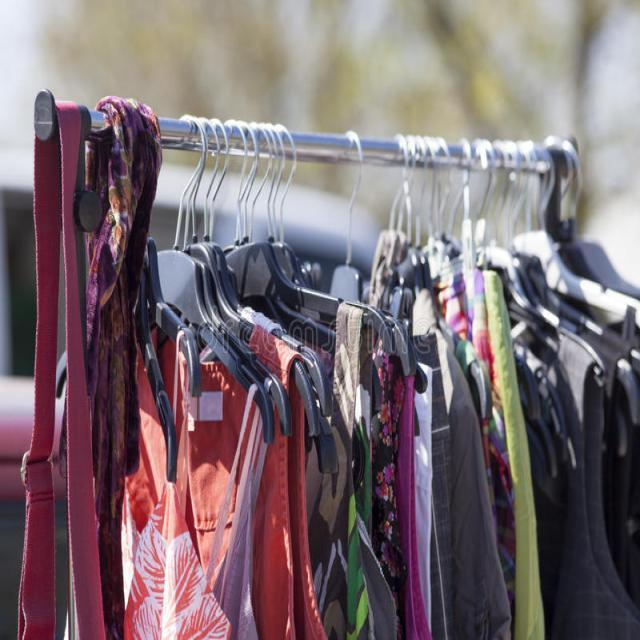clothes: (95, 151, 617, 623)
